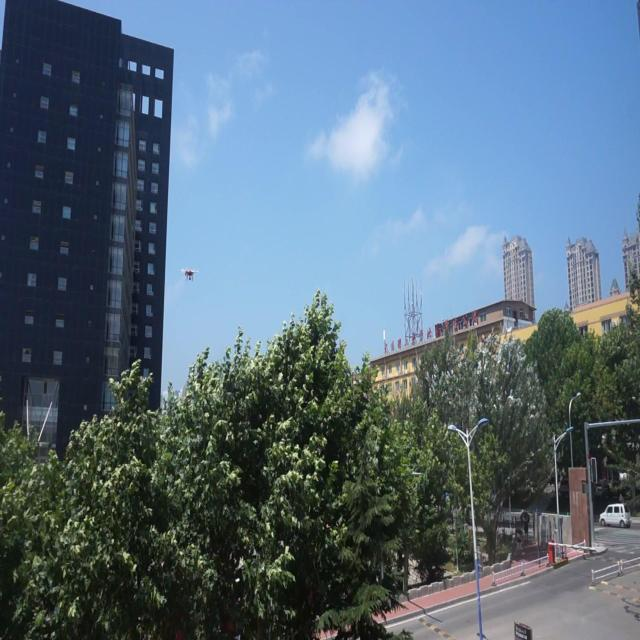drone: (180, 262, 199, 284)
